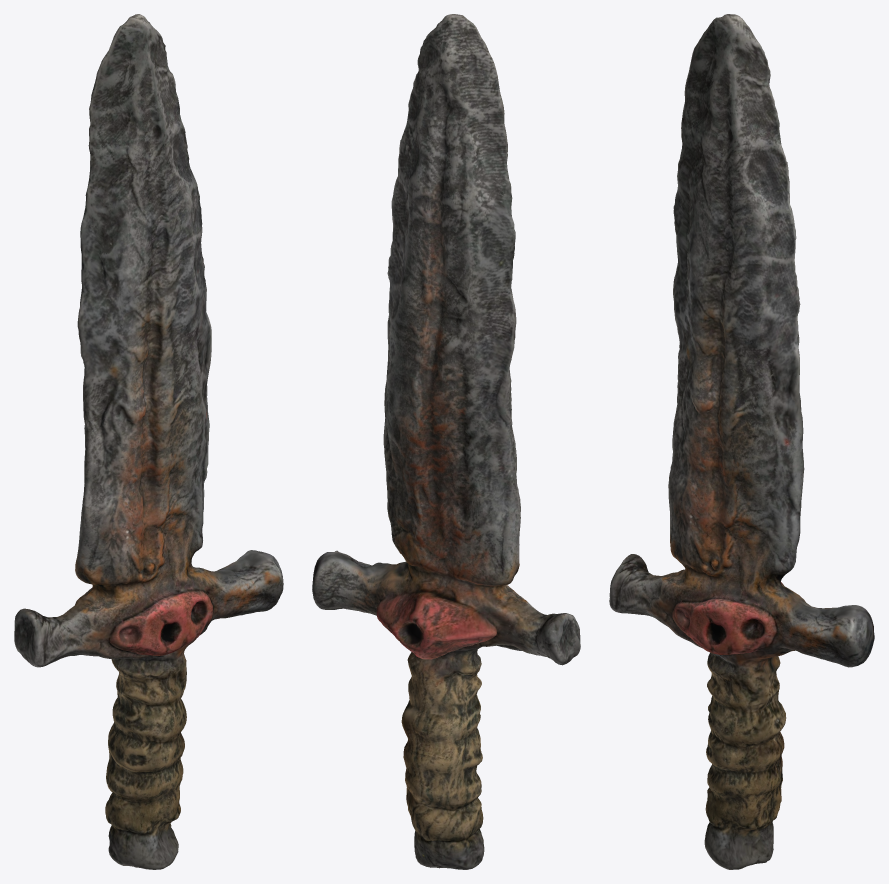
The model's file is prop_weapon_sword1_mesh_v1.glb.
3 views of the same model, side by side, from view 1: azimuth 30°, elevation 25°; view 2: azimuth 150°, elevation 25°; view 3: azimuth 330°, elevation 25° (orthographic).
Visible parts, largest first — view 1: Sword1; view 2: Sword1; view 3: Sword1.
Boxes of the visible parts, box(x1,y1,x2,y2) form: Sword1: box(14, 14, 283, 869); Sword1: box(312, 14, 580, 869); Sword1: box(609, 14, 874, 869).
Bounding box in the file's own units: 0.7196 × 2.29 × 0.2803.
Materials: 1 (1 with a texture image).
